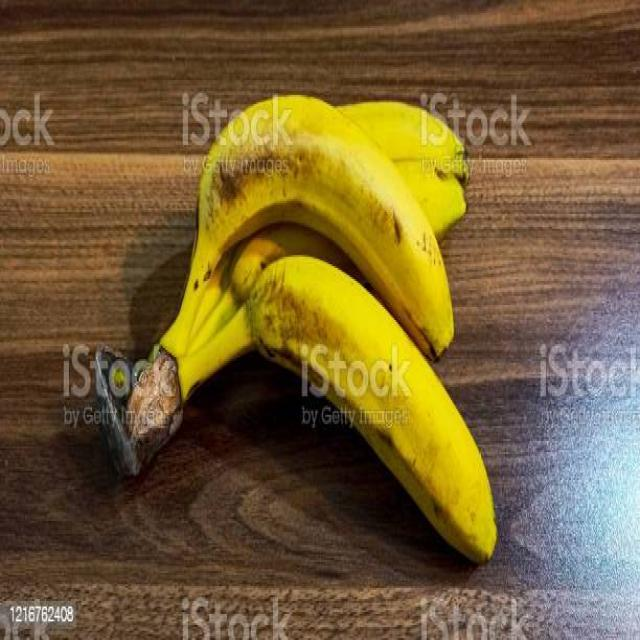banana: (87, 83, 502, 570)
